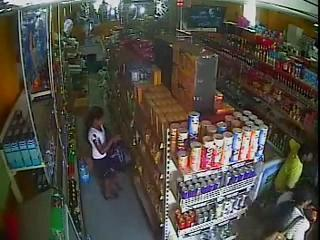Normal: (276, 190, 318, 240)
shoplifting: (86, 106, 126, 200)
